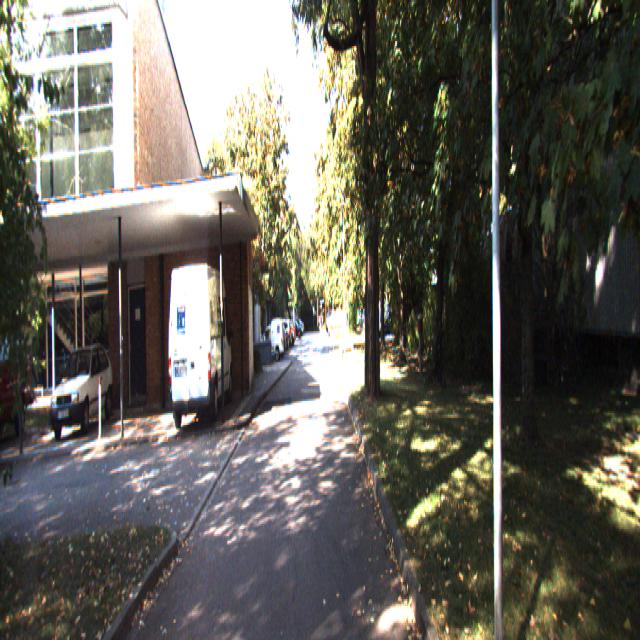Car: (168, 262, 232, 433), (47, 343, 115, 442)
